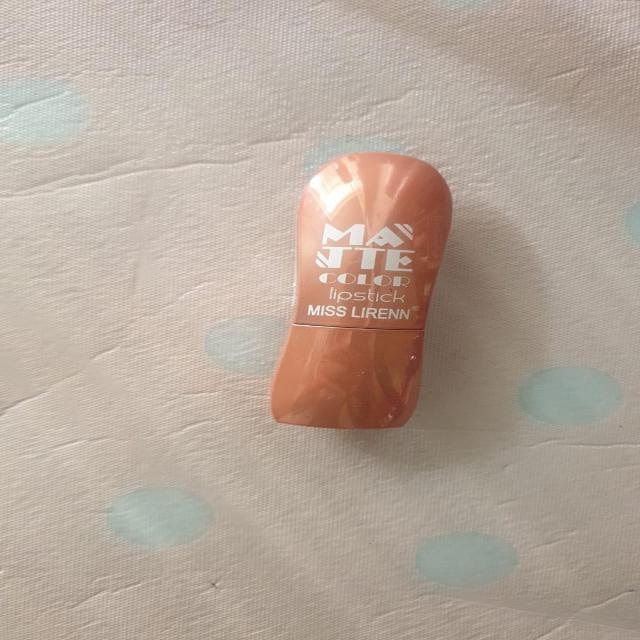lip stick: (259, 139, 487, 435)
